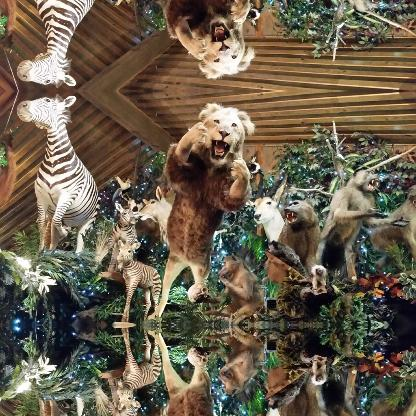Monkey: (322, 160, 390, 272), (321, 377, 391, 415), (321, 0, 391, 23)
